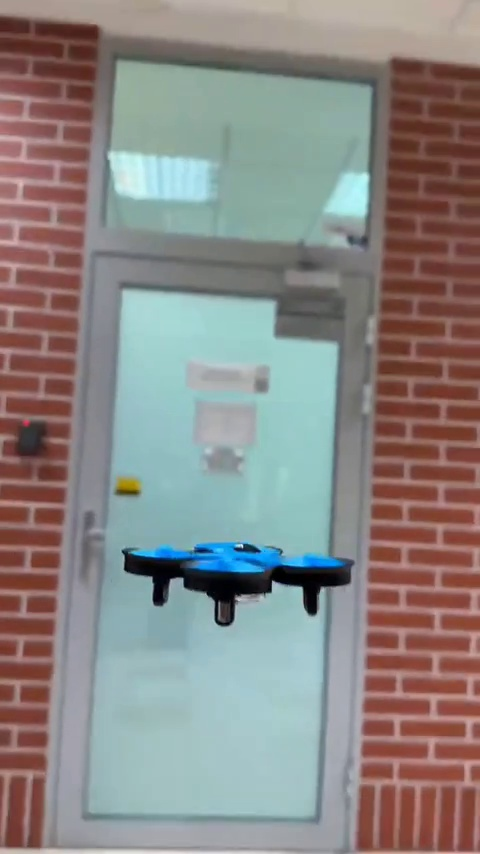drone: (120, 536, 360, 626)
